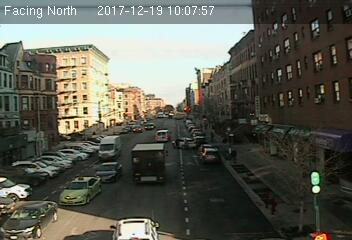car: (1, 200, 57, 240), (56, 175, 101, 206), (94, 163, 121, 184), (171, 137, 194, 149), (201, 148, 219, 163)
truck: (99, 136, 120, 161), (155, 129, 169, 144)
ups: (130, 142, 168, 185)
